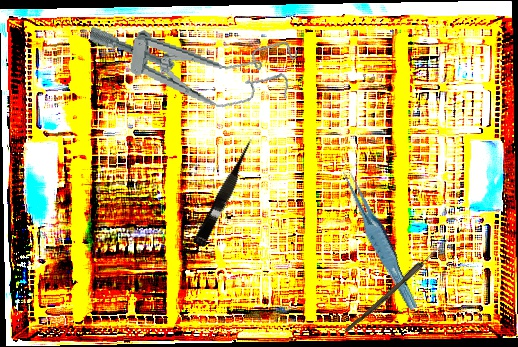Micro Scissor: (192, 136, 260, 249)
Speculum: (82, 11, 299, 118)
Surgical Spoon: (344, 235, 451, 336)
Tissue Forceps: (340, 163, 419, 315)
